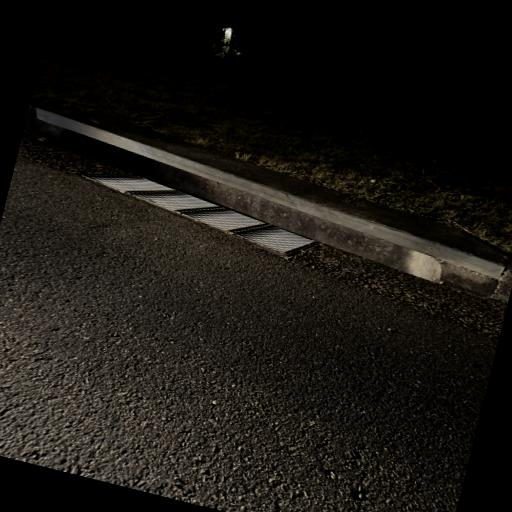kerb: (18, 99, 512, 338)
